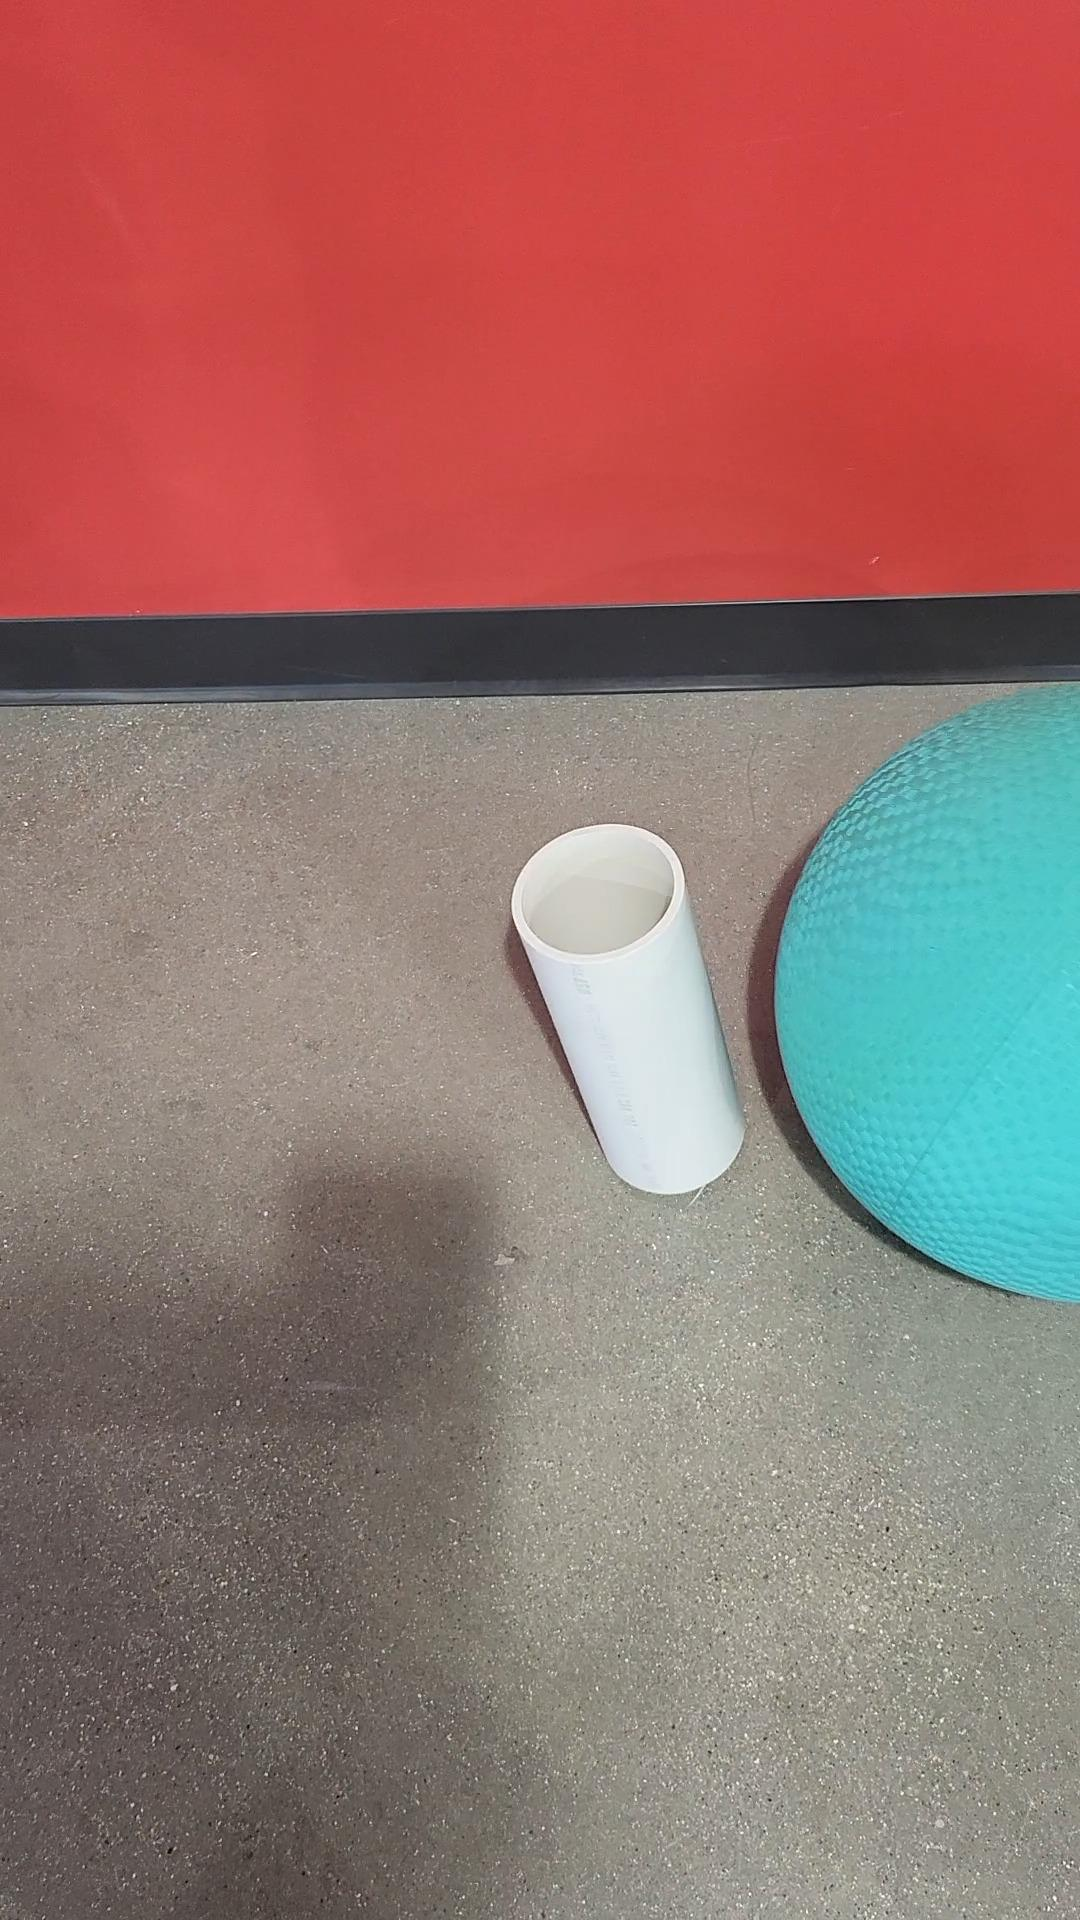algae: (771, 680, 1079, 1299)
coral: (510, 820, 746, 1196)
